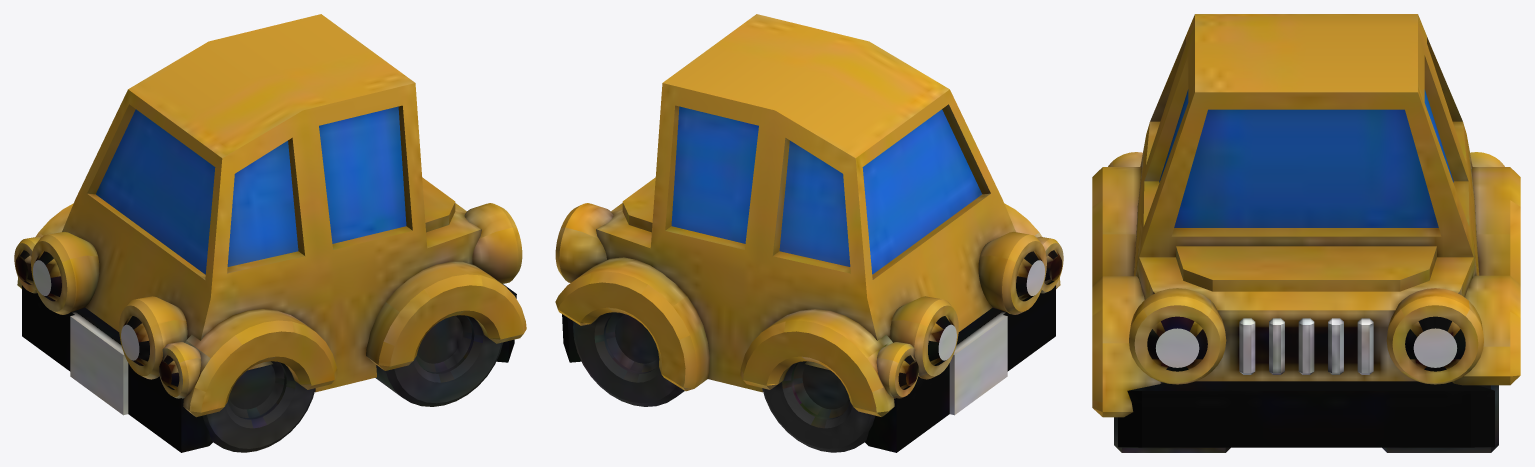
Rendered from cube_cab.glb.
3 views of the same model, side by side, from view 1: azimuth 30°, elevation 25°; view 2: azimuth 150°, elevation 25°; view 3: azimuth 270°, elevation 25° (orthographic). The views are drawn at different scales.
Visible parts, largest first — view 1: cube_cab.001; view 2: cube_cab.001; view 3: cube_cab.001.
Part boxes in pixels (x1,y1,x2,y2): cube_cab.001: [14, 14, 526, 452]; cube_cab.001: [555, 14, 1063, 452]; cube_cab.001: [1092, 14, 1520, 452].
Size of the model in its own units: 2.57 by 1.98 by 2.17.
1 material, 1 textured.
